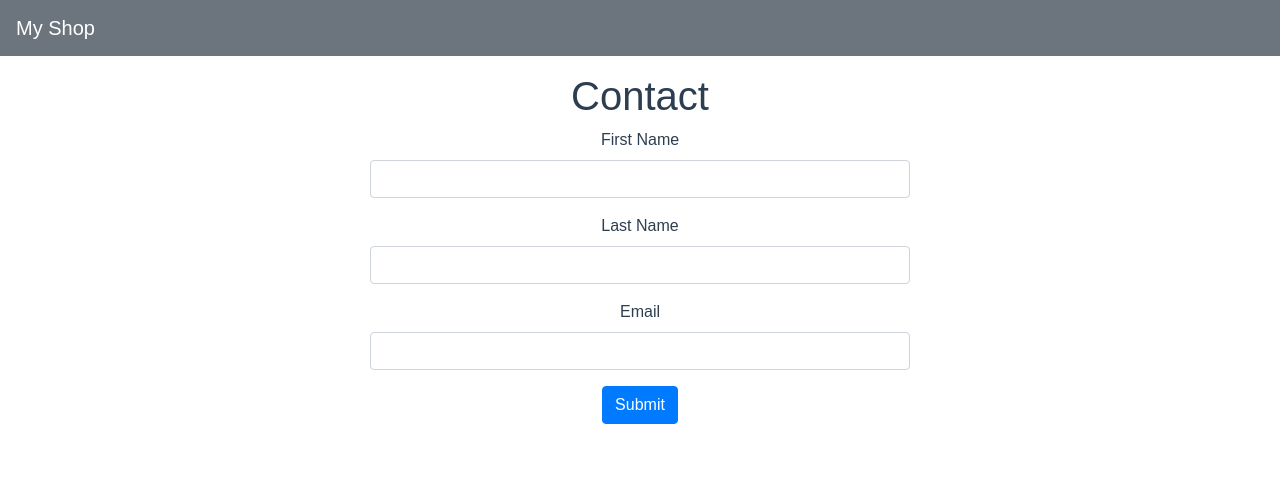
Test case: Test 2 › Valid form
Note: Type "Firstname" in firstname input
Type "Firstname" into the field with test id "form-input-firstname" at (640, 179), box [370,160,910,198]
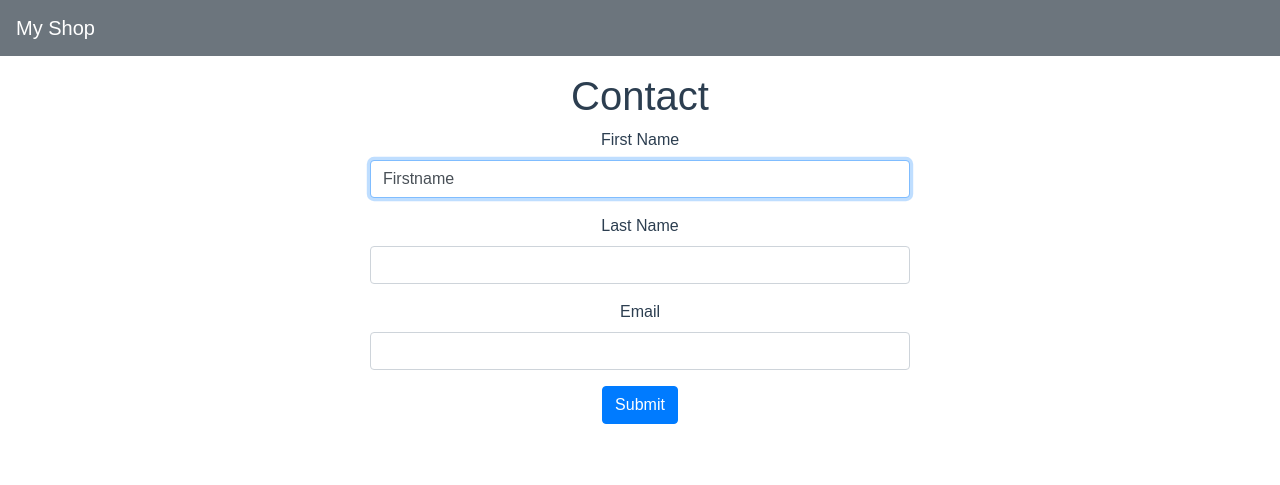
Note: Type "Lastname" in lastname input
Type "Lastname" into the field with test id "form-input-lastname" at (640, 265), box [370,246,910,284]
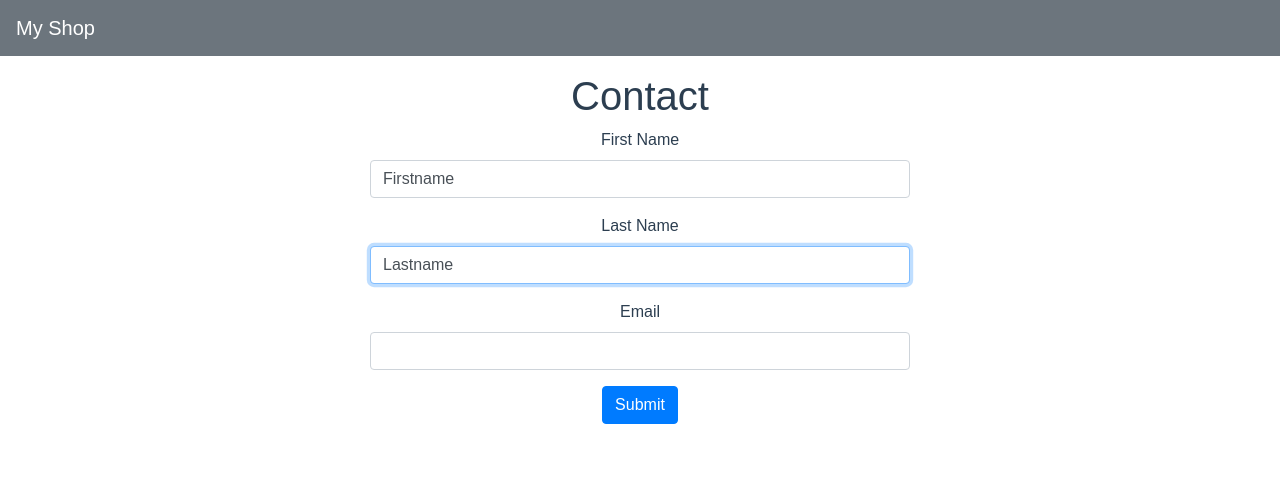
Note: Type "email@domain.com" in email input
Type "email@domain.com" into the field with test id "form-input-email" at (640, 351), box [370,332,910,370]
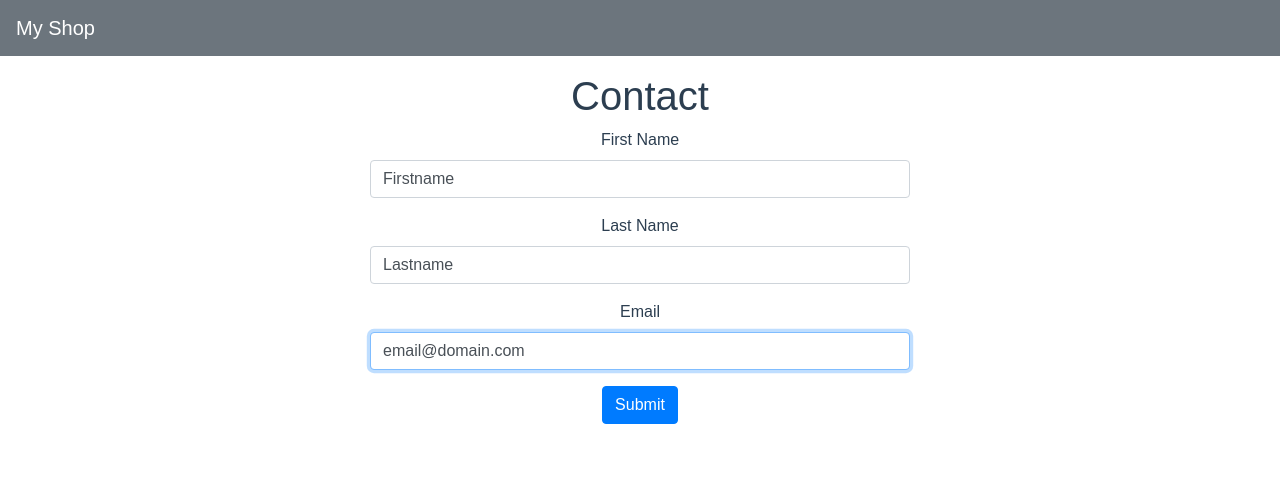
Note: Click on submit button
Click the button with test id "form-submit-btn" at (640, 405), box [602,386,678,424]
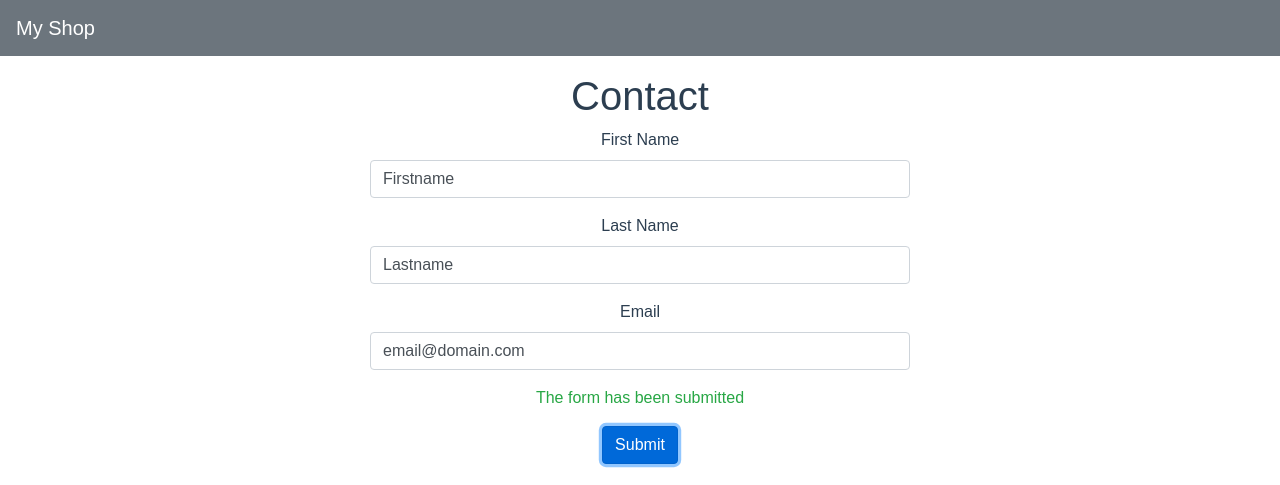
Check: the text with test id "form-msg-success" reads "The form has been submitted", box [536,389,744,406]
